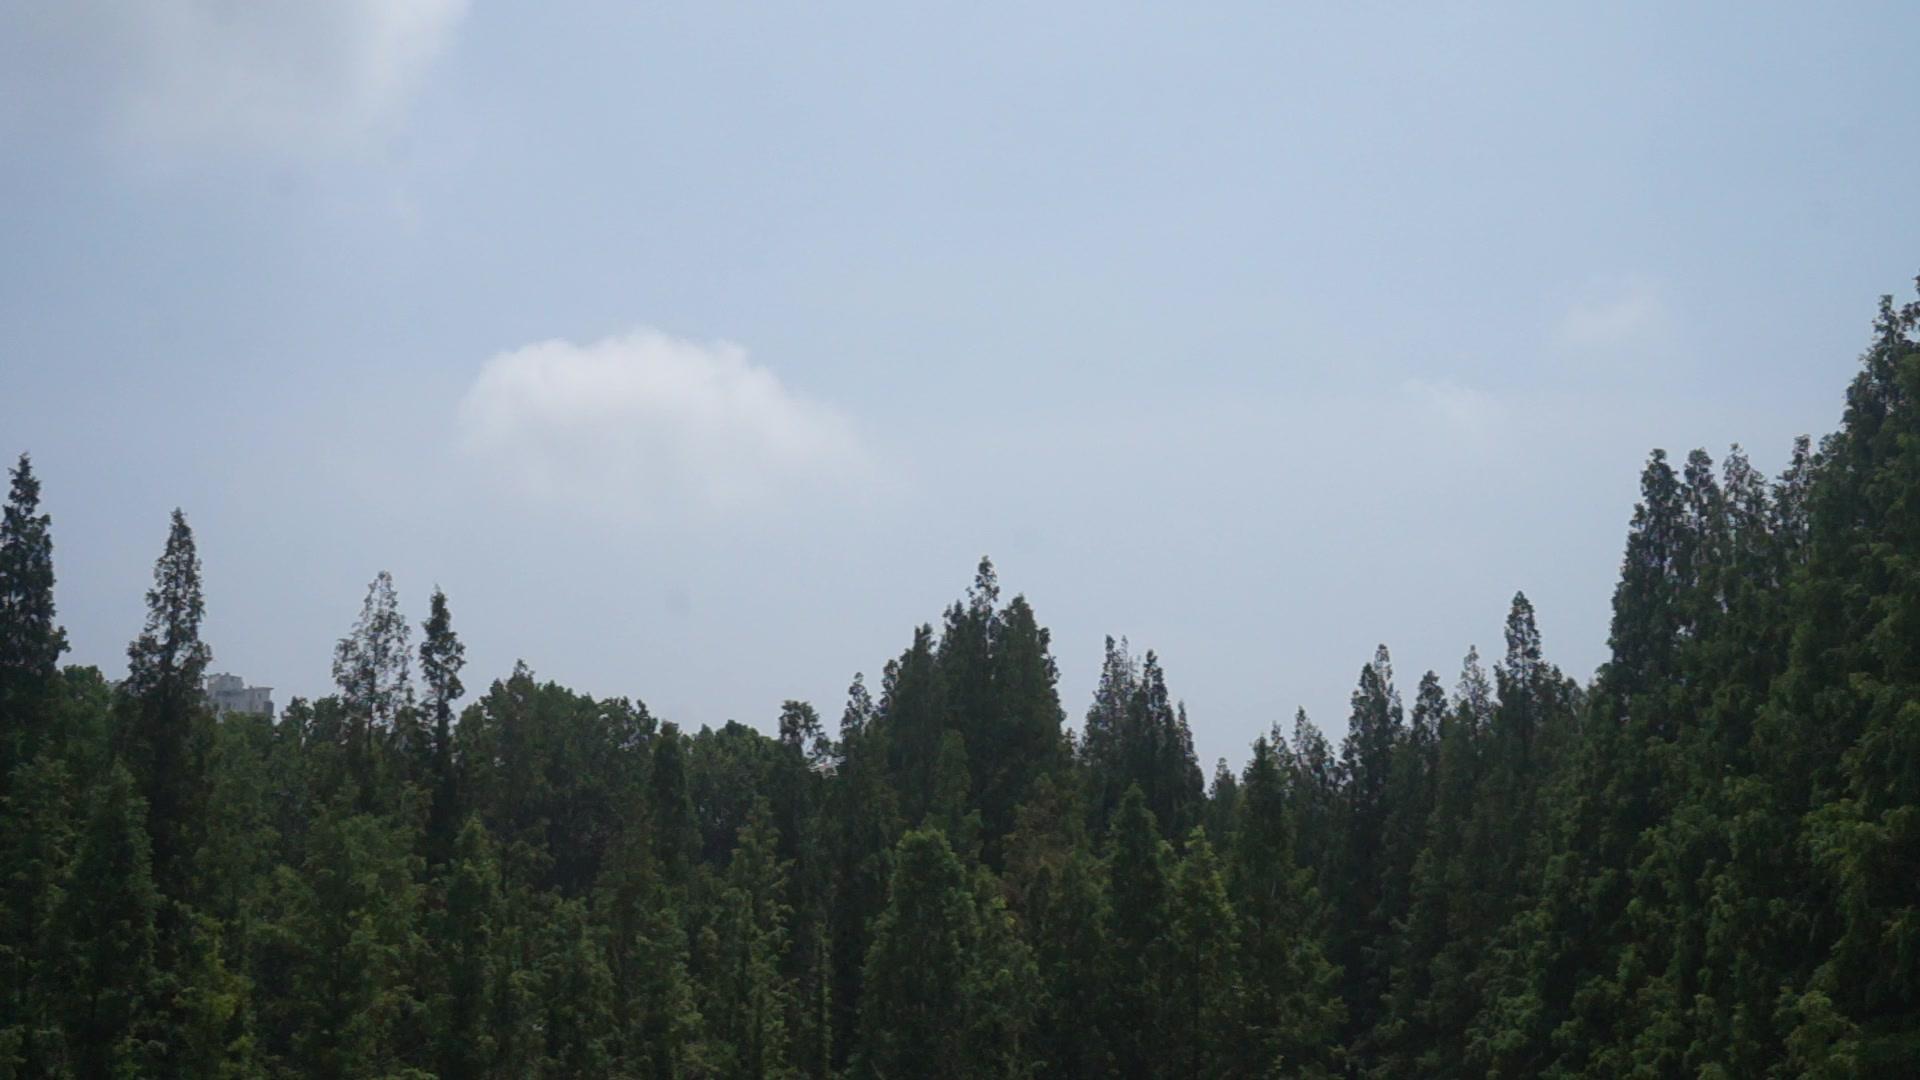UAV: (810, 756, 848, 781)
